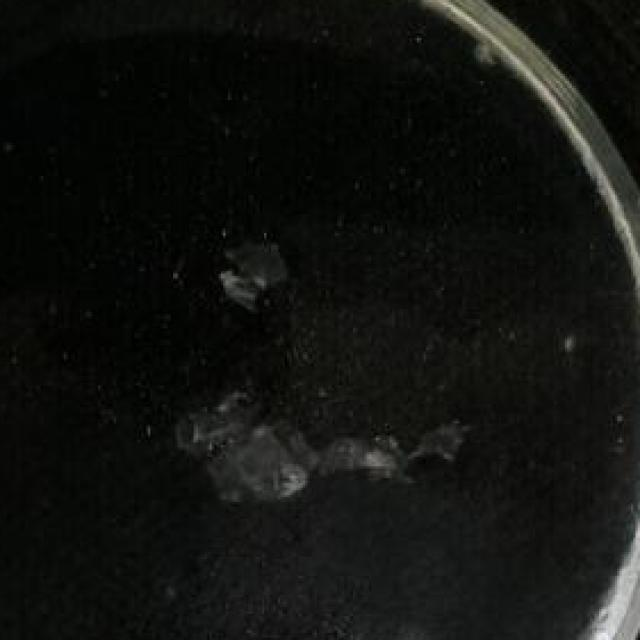Microplastic: (200, 395, 442, 521), (212, 226, 298, 324)
